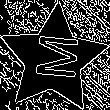M_W: (27, 34, 80, 84)
